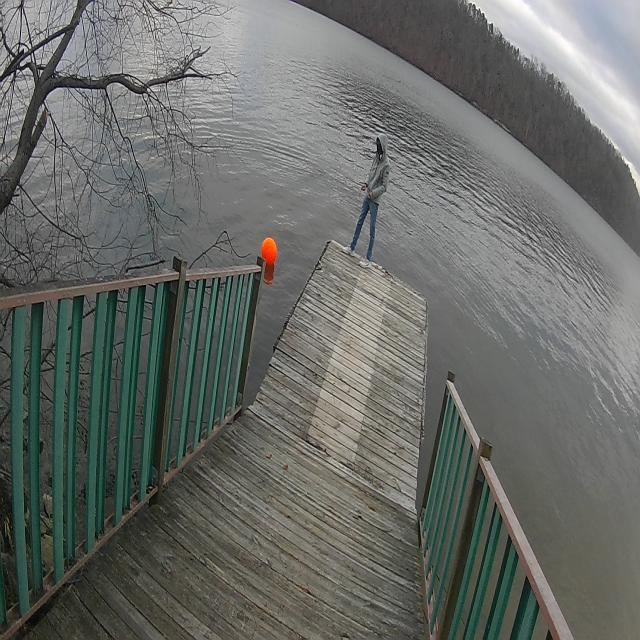Buoy: (260, 234, 278, 270)
